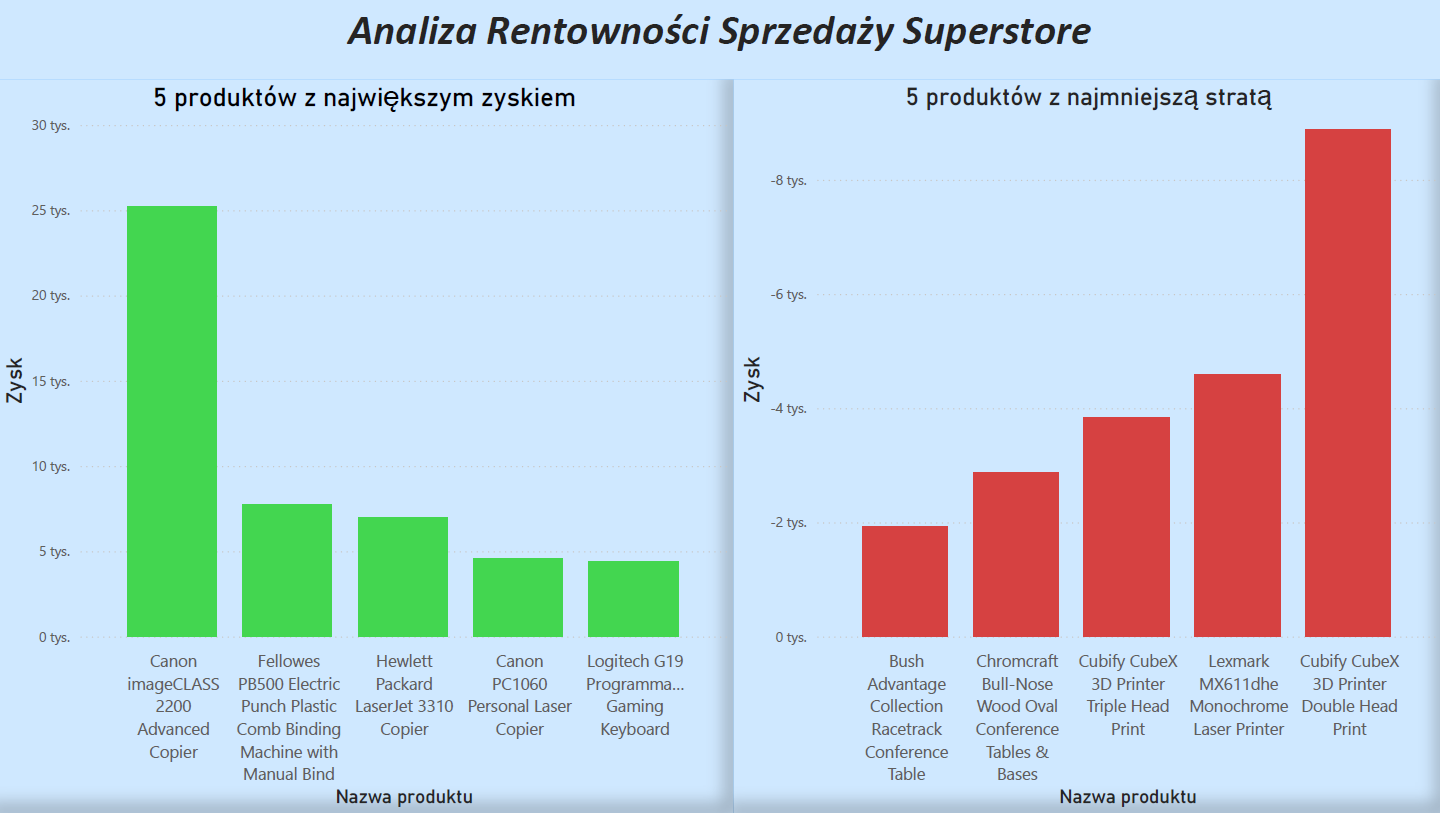

This screenshot's page, from the dashboard's own definition file:
{"tool":"powerbi","page":{"name":"Strona 3","canvas":[1280,720],"ordinal":2},"visuals":[{"type":"columnChart","title":"5 produktów z największym zyskiem","fields":{"Y":["Sum(Sprzedaże.Zysk)"],"Category":["Produkty.Nazwa produktu"]},"box":[0,72.7,651.8,647.3],"z":0},{"type":"columnChart","title":"5 produktów z najmniejszą stratą","fields":{"Y":["Sum(Sprzedaże.Zysk)"],"Category":["Produkty.Nazwa produktu"]},"box":[651.8,72.7,628.4,647.3],"z":1000},{"type":"textbox","box":[0,0,1280.2,72.7],"z":2000}]}

Visuals, with their boxes in screenshot pixels (x1, y1, x2, y2), scaled from the page's 1280x720 canvas onto the 1440x814 screenshot:
"5 produktów z największym zyskiem" columnChart: left=0, top=82, right=733, bottom=813
"5 produktów z najmniejszą stratą" columnChart: left=733, top=82, right=1439, bottom=813
textbox: left=0, top=0, right=1439, bottom=82
